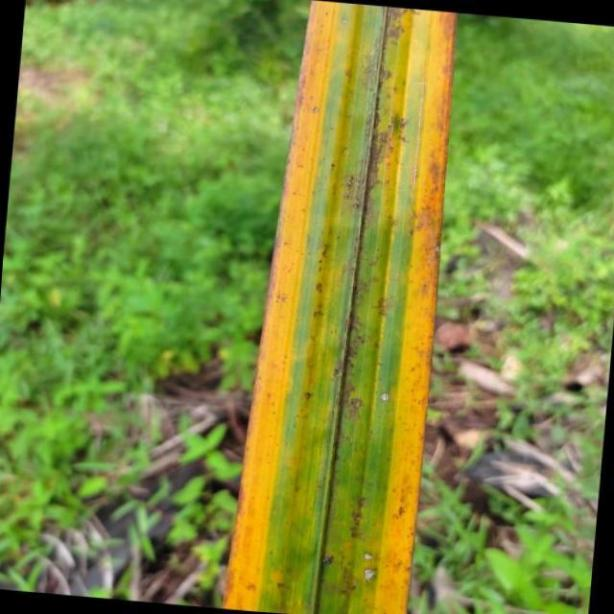Megnesium: (221, 0, 456, 614)
